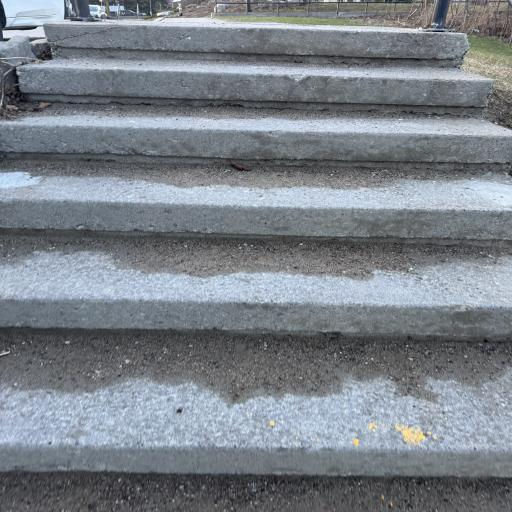Stairs: (0, 20, 512, 476)
